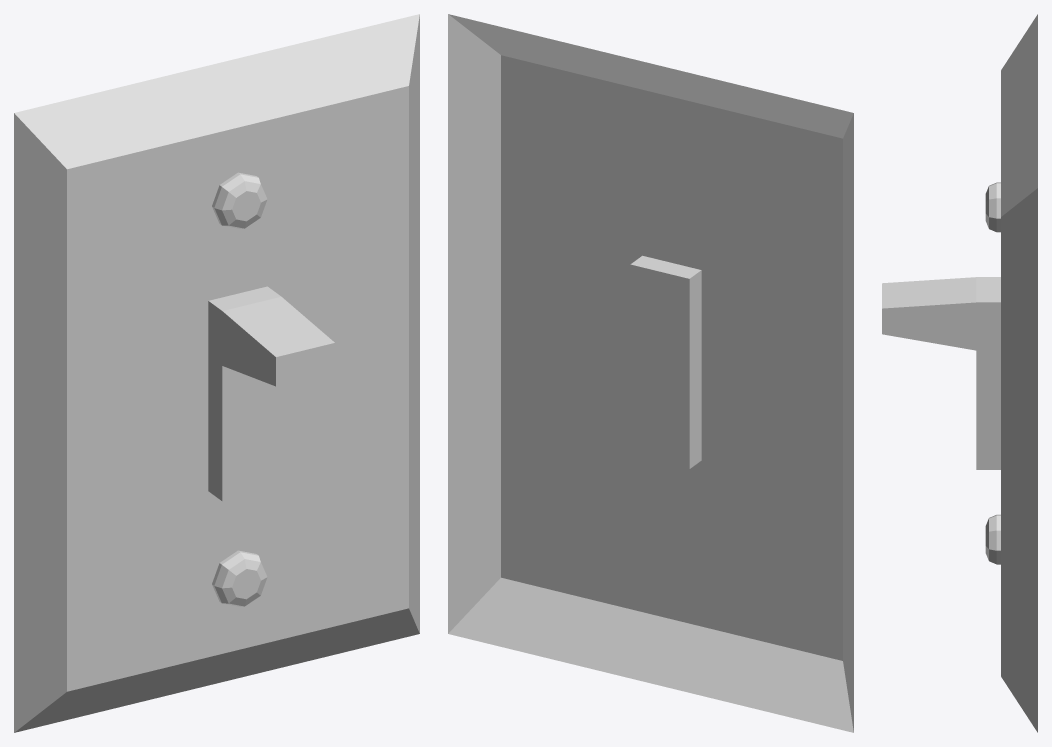
The model's file is LightSwitch.fbx.
3 renders of one model, left to right at view 1: azimuth 30°, elevation 25°; view 2: azimuth 150°, elevation 25°; view 3: azimuth 270°, elevation 25°, orthographic. The views are drawn at different scales.
Parts seen in each view (by area): view 1: Prop_WallSwitch; view 2: Prop_WallSwitch; view 3: Prop_WallSwitch.
Boxes of the visible parts, x1=… form: Prop_WallSwitch: x1=14, y1=14, x2=419, y2=732; Prop_WallSwitch: x1=448, y1=14, x2=853, y2=732; Prop_WallSwitch: x1=882, y1=14, x2=1037, y2=732.
Bounding box in the file's own units: 9.61 × 14.03 × 3.63.
Materials: 1 (1 with a texture image).
